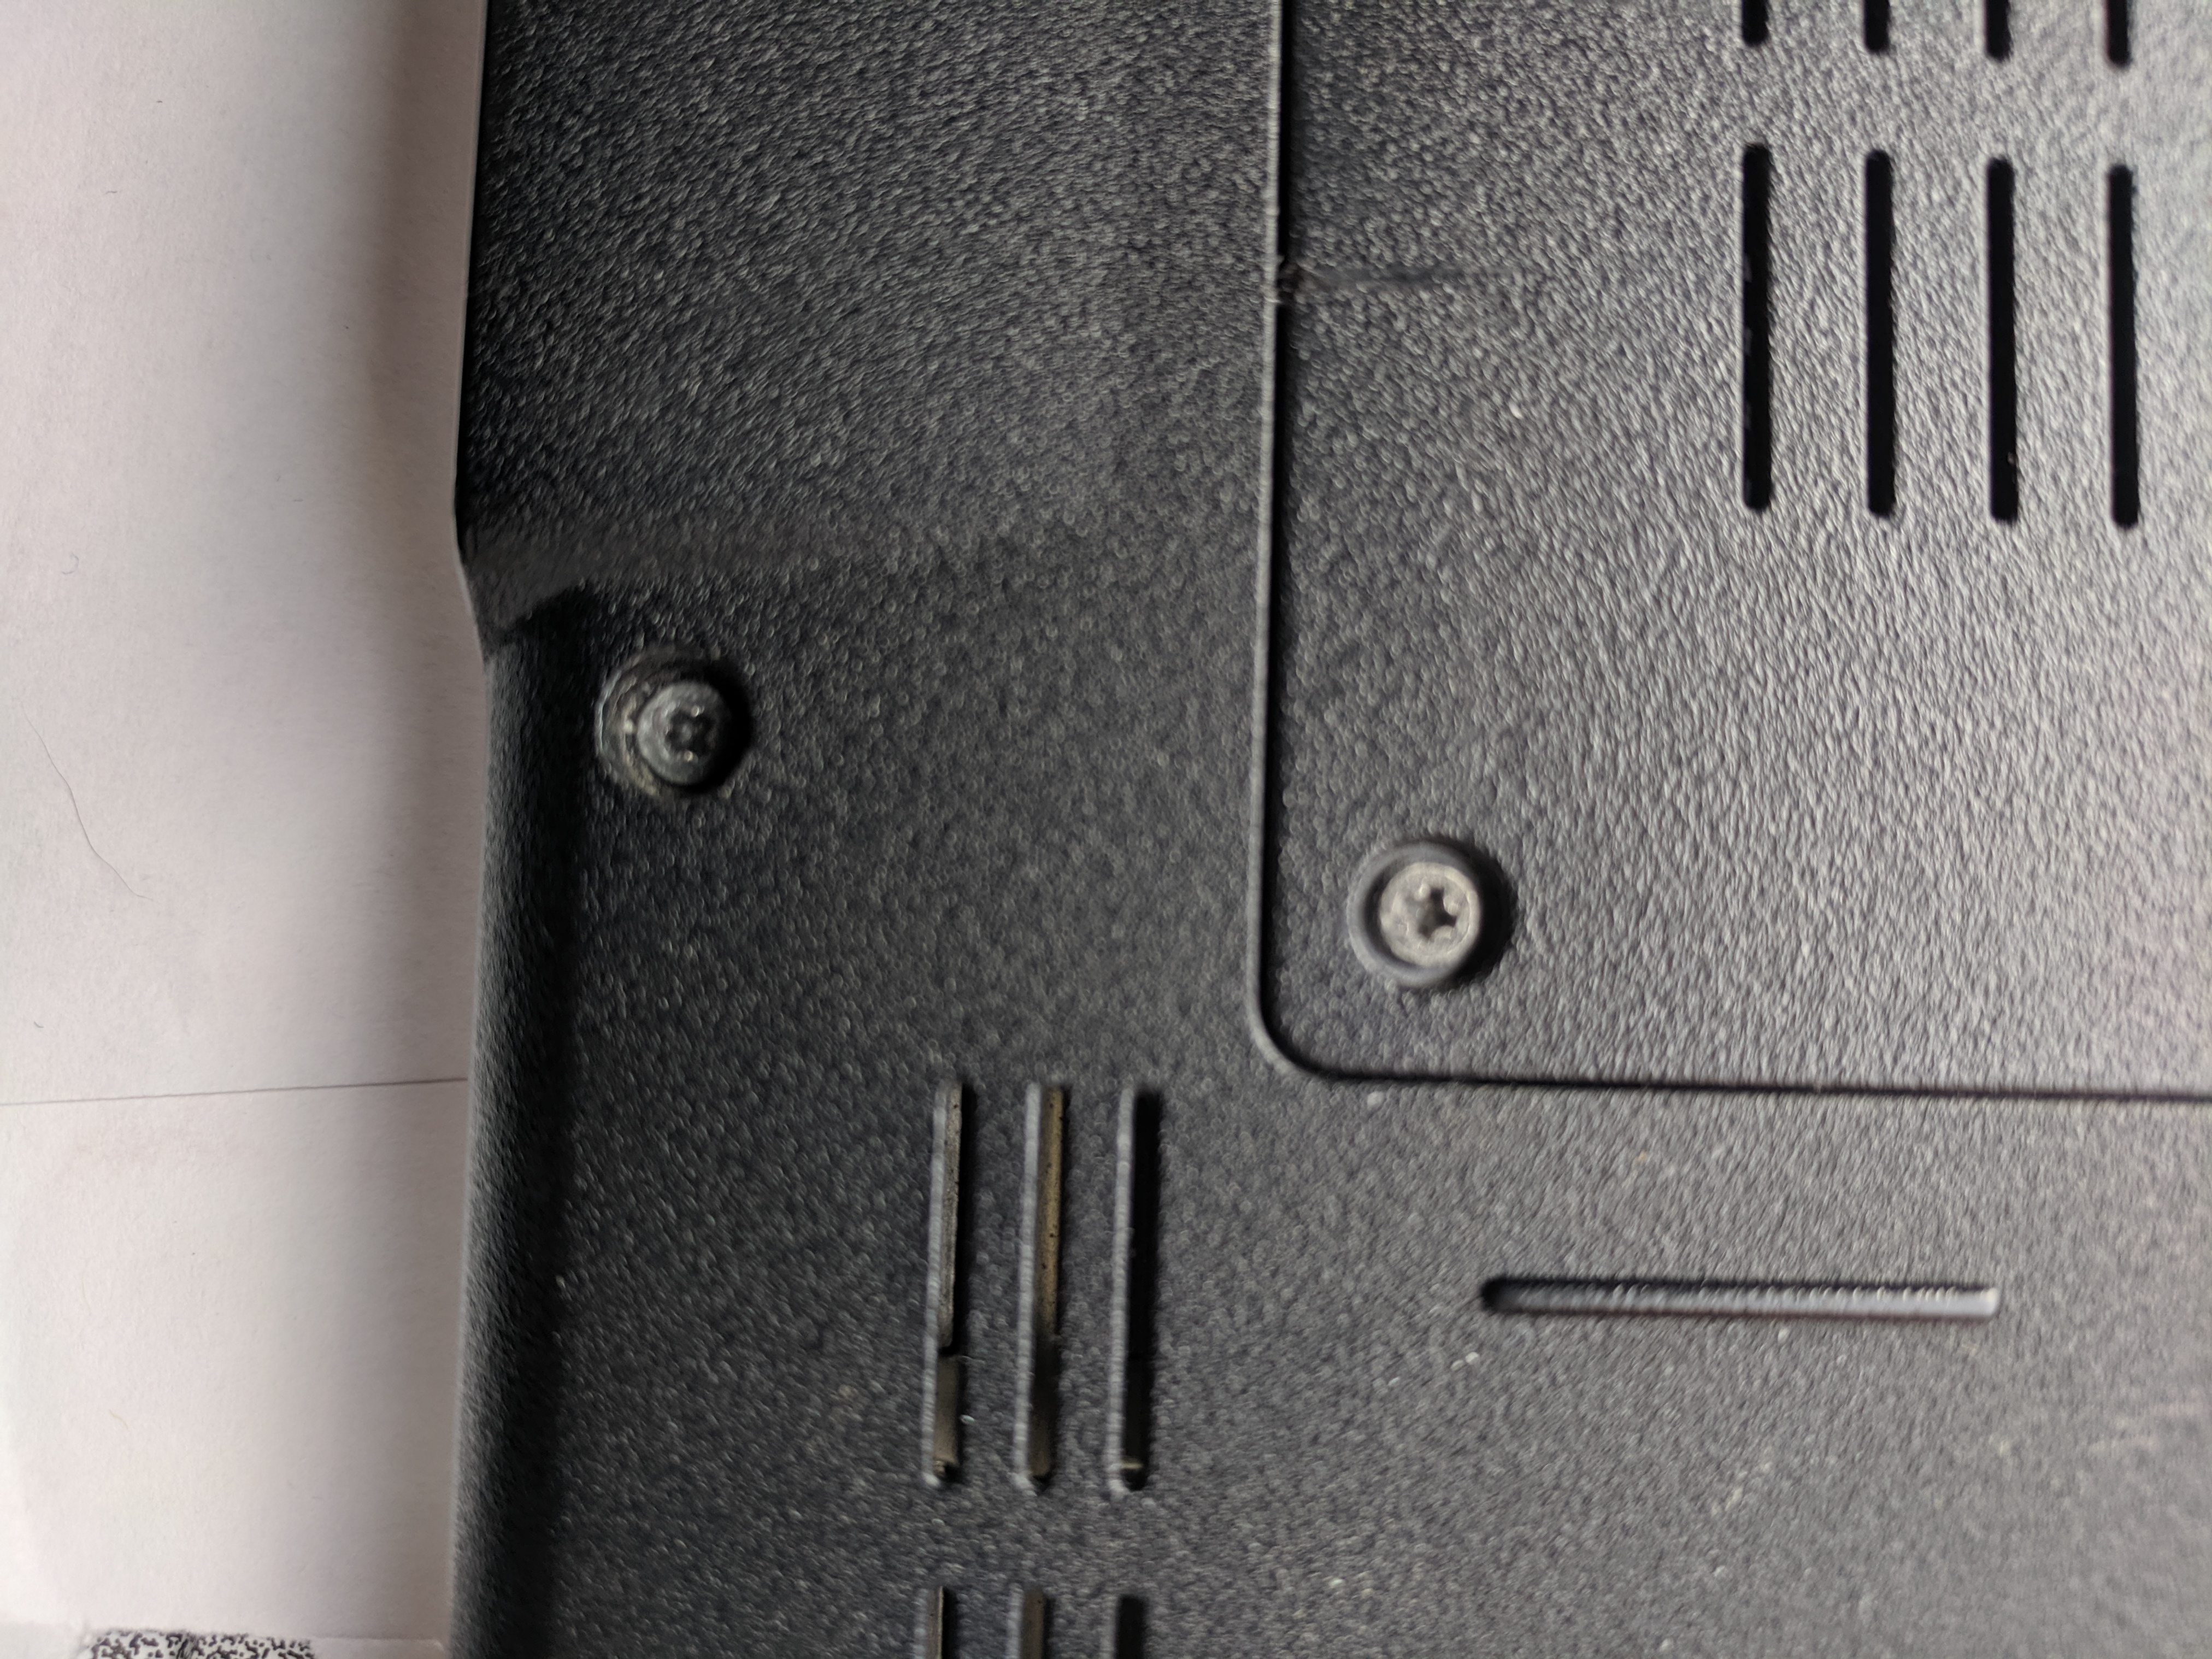cross_recessed_screw: (1352, 824, 1494, 986), (613, 657, 749, 789)
